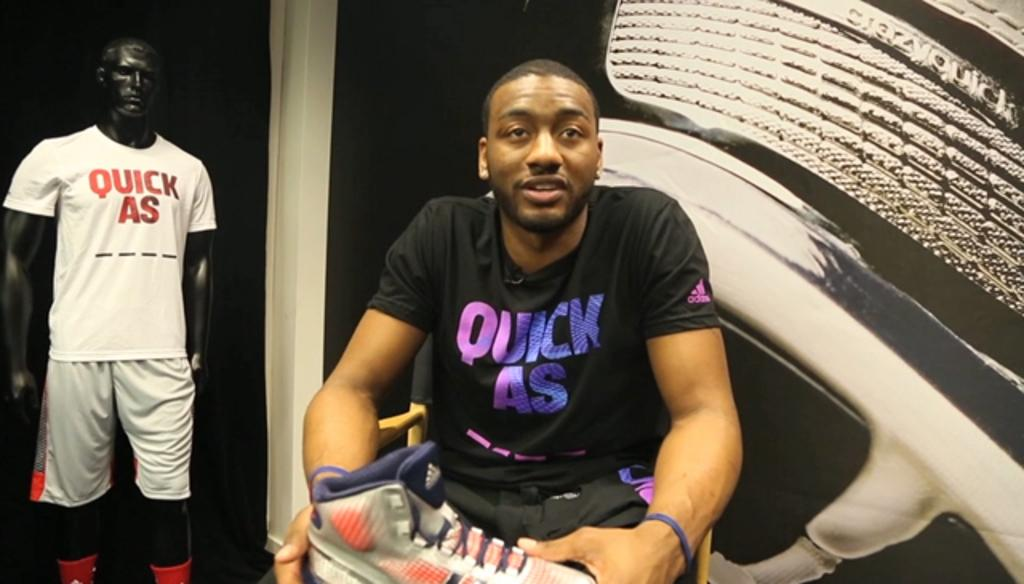face: (490, 76, 598, 234), (106, 44, 158, 110)
